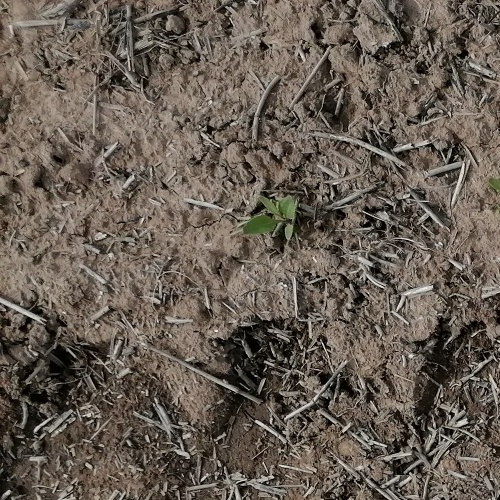beet: (241, 192, 298, 245)
